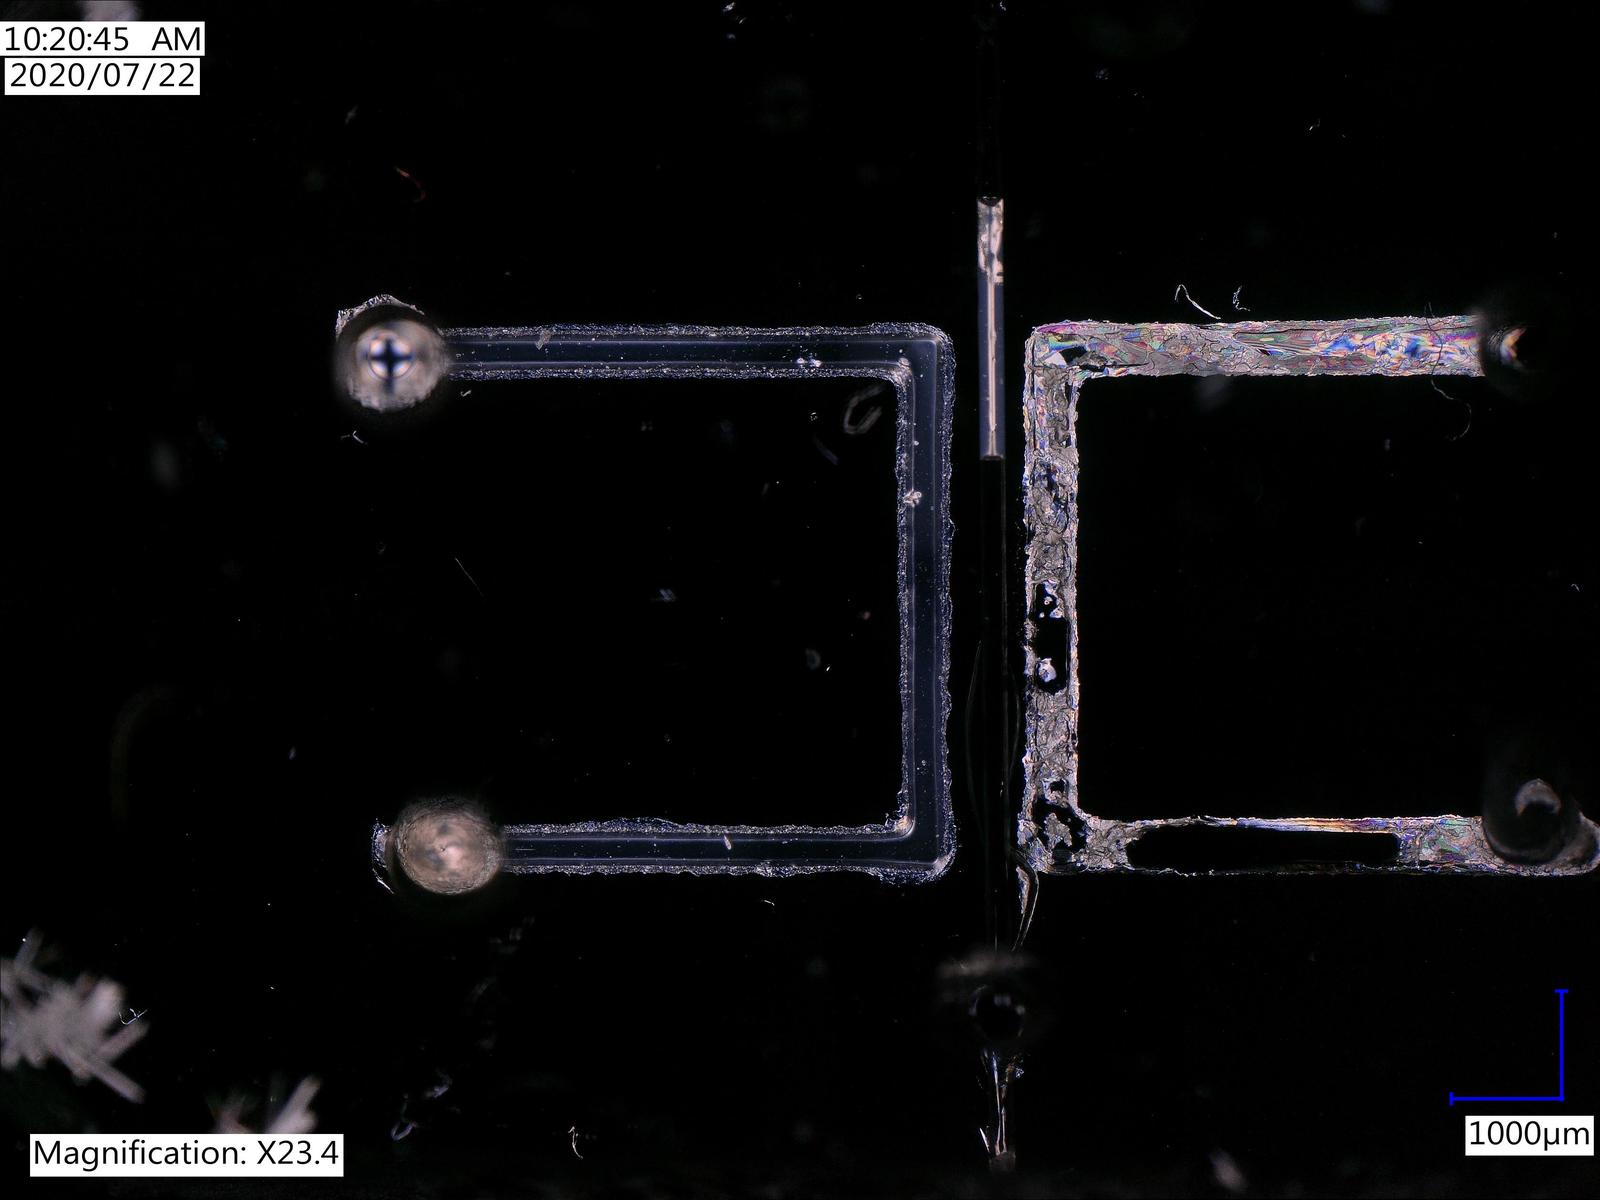sediment: (1027, 689, 1073, 783), (1026, 364, 1072, 449), (1027, 489, 1067, 584), (1083, 822, 1138, 868), (1042, 816, 1072, 850)
